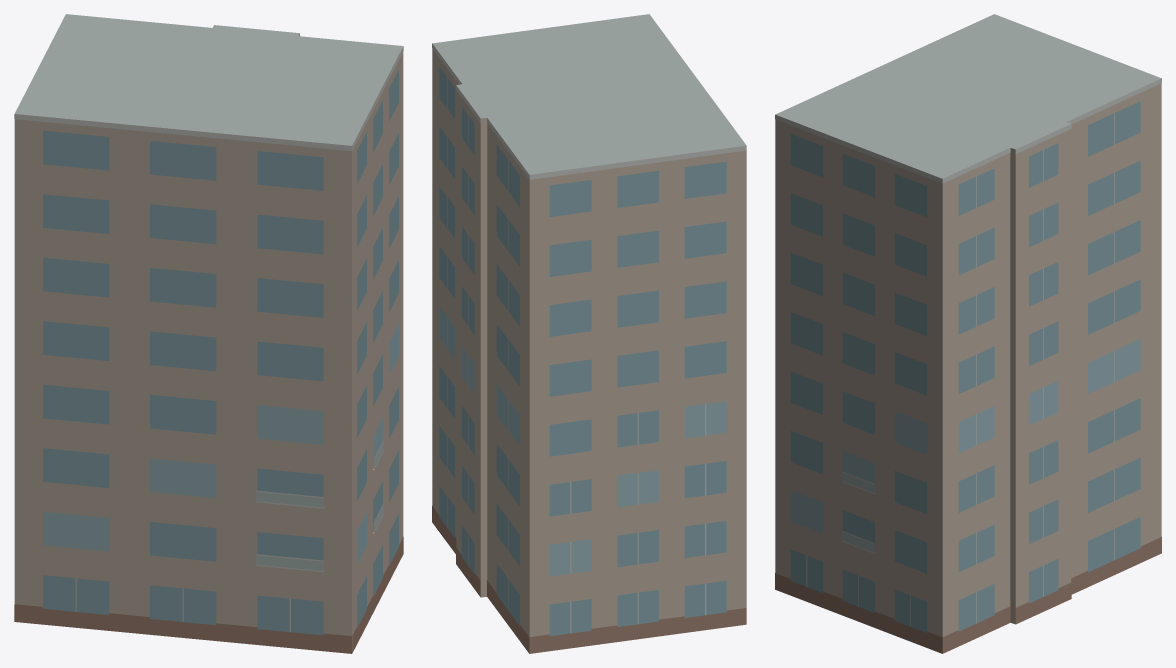
Rendered from survey-upis-32995725.glb.
3 renders of one model, left to right at view 1: azimuth 30°, elevation 25°; view 2: azimuth 150°, elevation 25°; view 3: azimuth 270°, elevation 25°, orthographic. The views are drawn at different scales.
Visible parts, largest first — view 1: survey-upis-32995725.tmp; view 2: survey-upis-32995725.tmp; view 3: survey-upis-32995725.tmp.
Boxes of the visible parts, x1=… form: survey-upis-32995725.tmp: x1=14, y1=14, x2=403, y2=653; survey-upis-32995725.tmp: x1=432, y1=14, x2=746, y2=653; survey-upis-32995725.tmp: x1=775, y1=14, x2=1161, y2=653.
Bounding box in the file's own units: 17.72 × 23.8 × 17.56.
